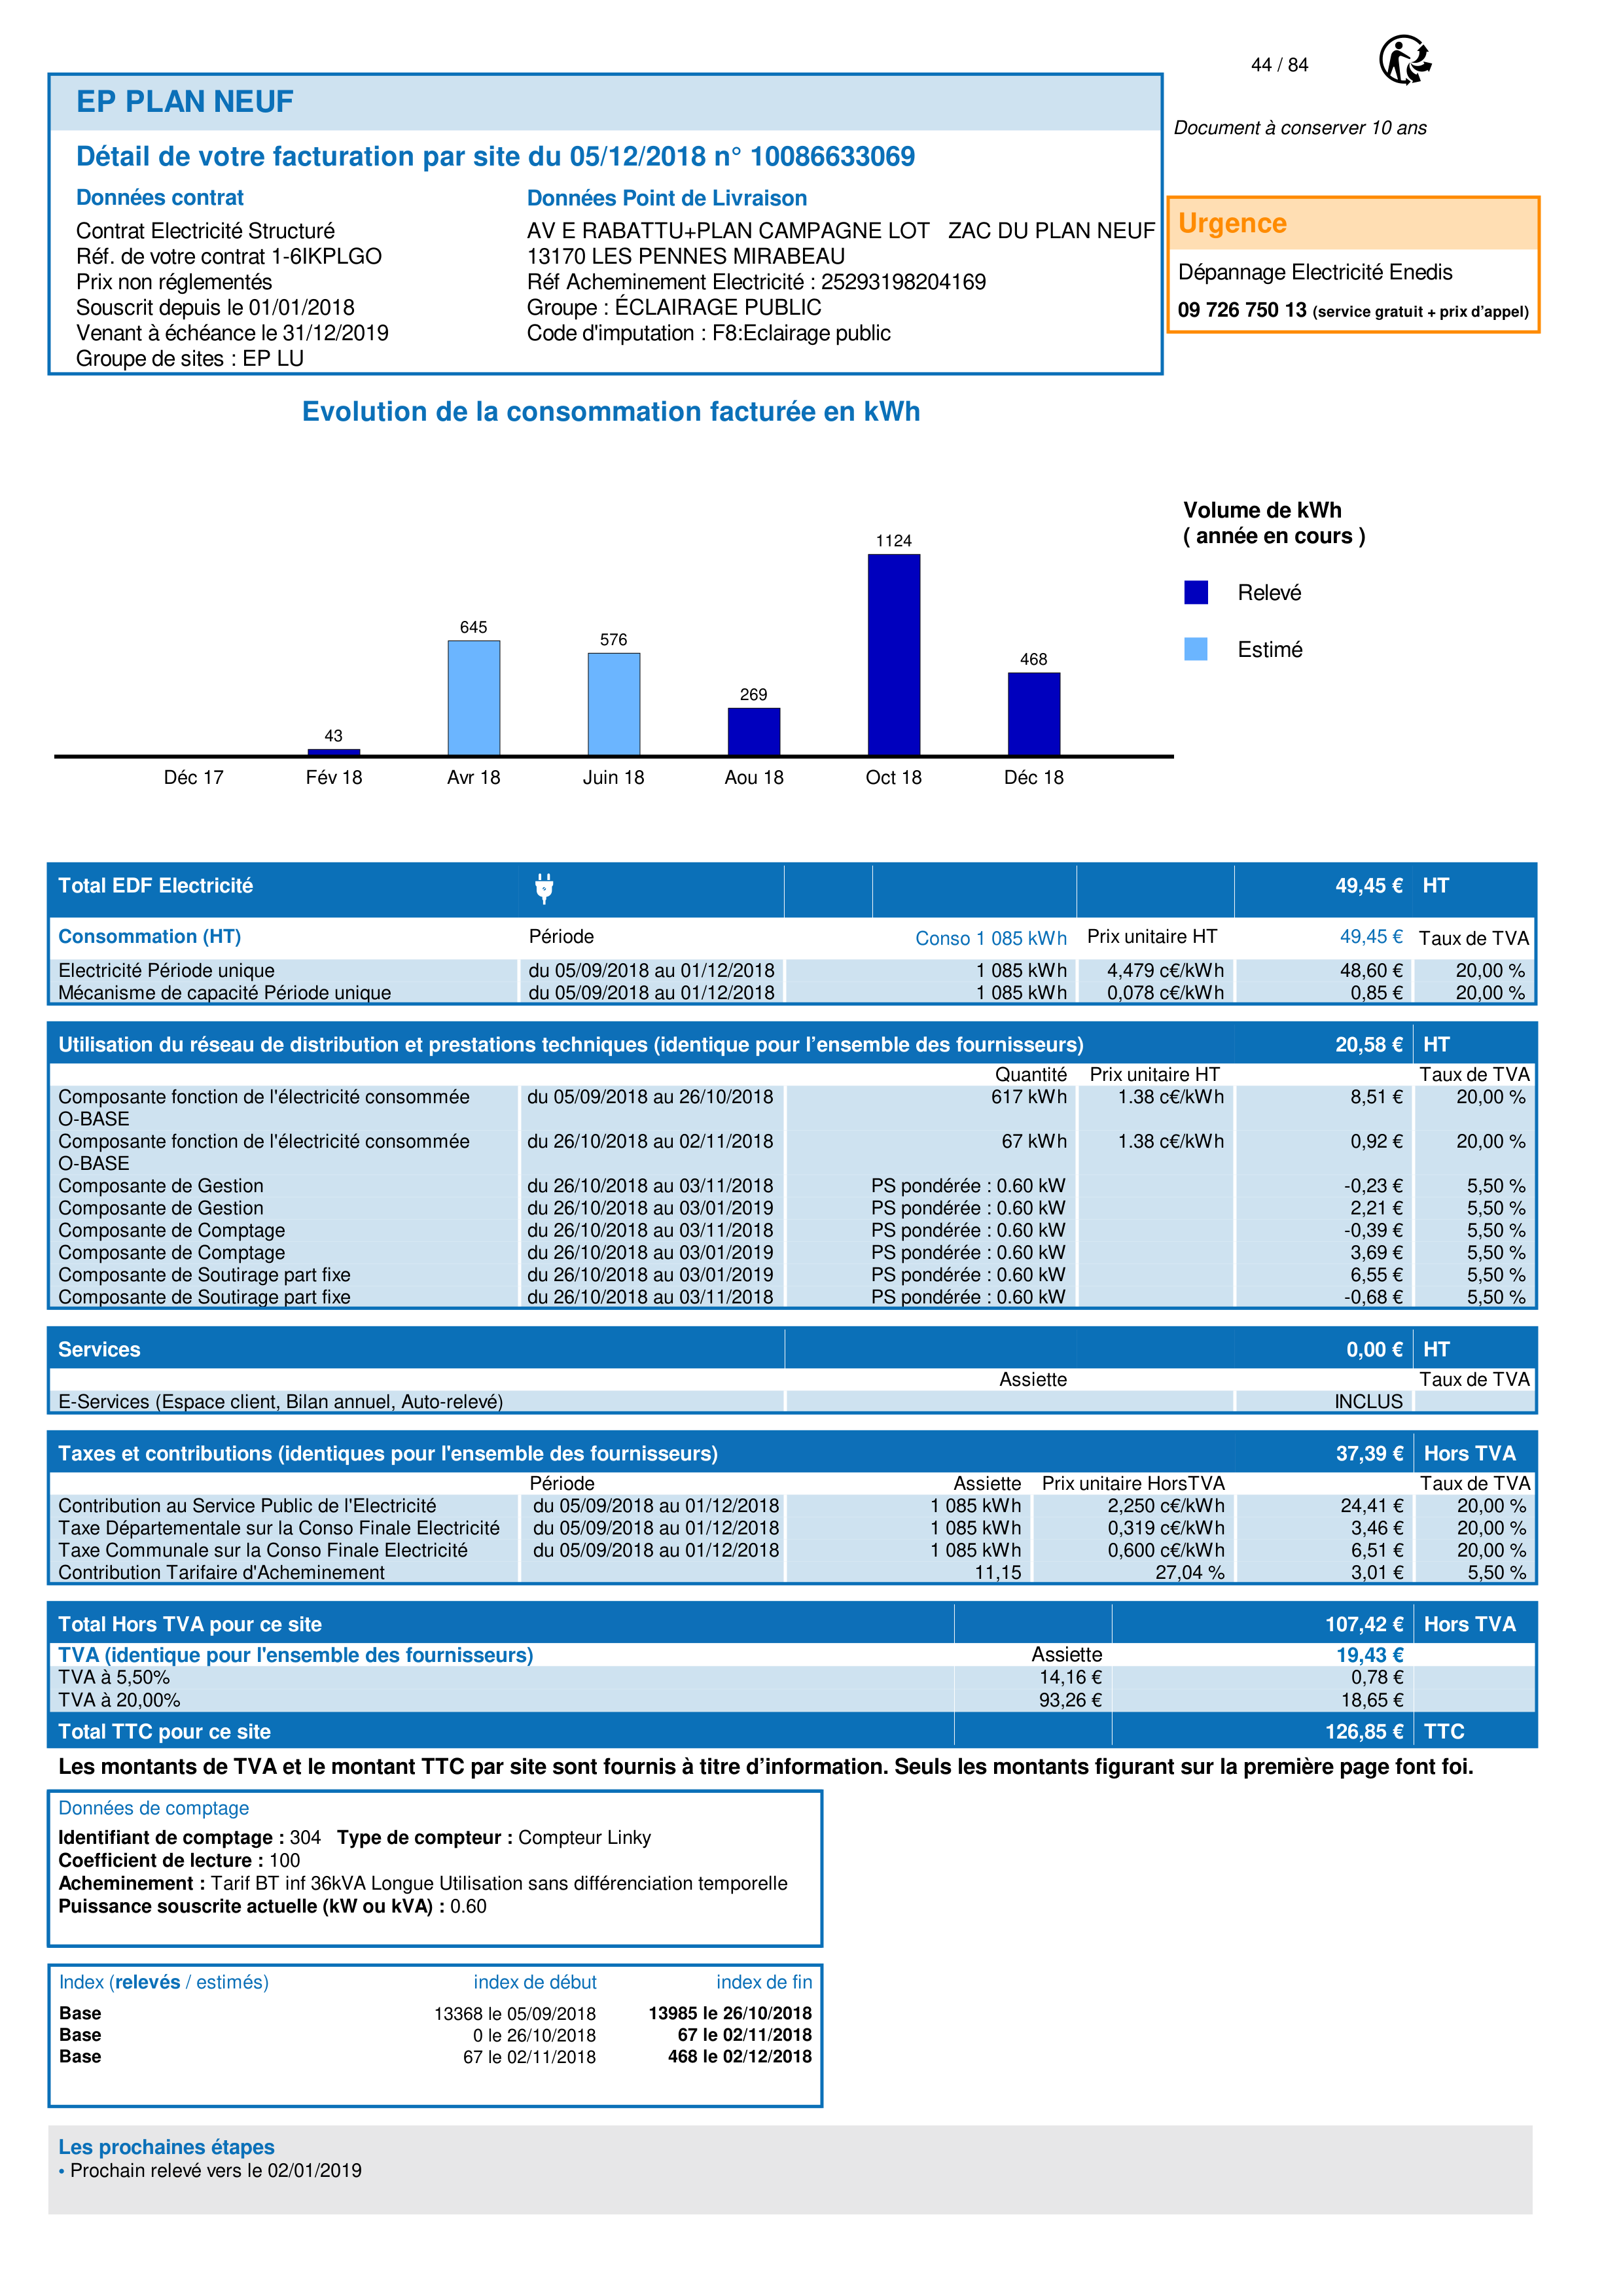area: (49, 1962, 820, 2108)
type_indicator: (49, 1964, 285, 2001)
